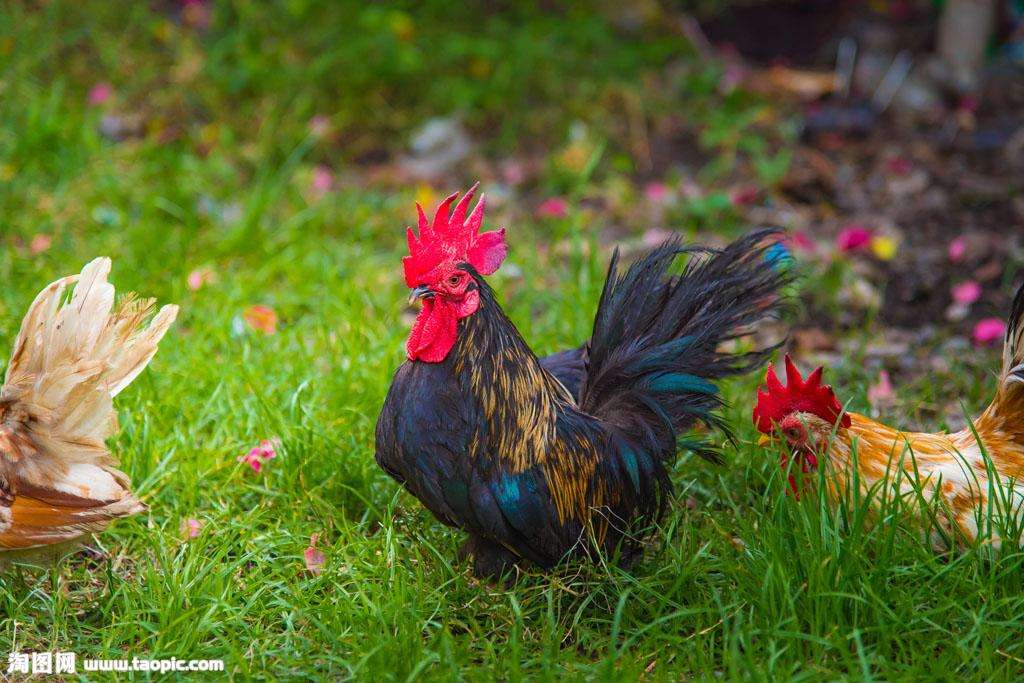chicken: (378, 172, 797, 589), (739, 322, 1024, 570), (1, 265, 179, 572)
